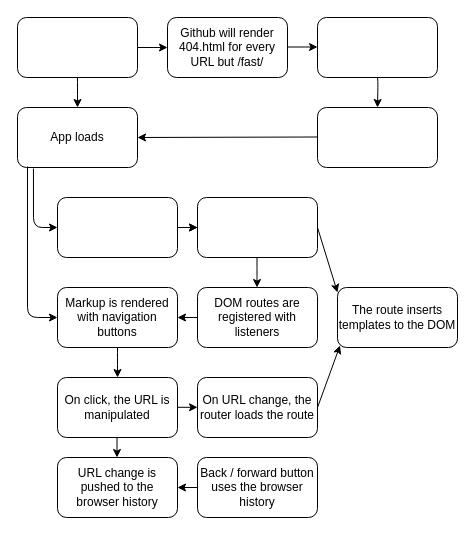
Image size: 475x535. Some labels were removed from this diagram. Each missing label, with the centre of its shape:
"GET abbeblubb.github.io /fast/" goes at point 77,47.
"Github allows the developer to write an own 404.html" goes at point 377,47.
"Initial route is rendered" goes at point 257,227.
"Router loads with routes" goes at point 117,227.
"The custimized 404 loads the index.html and keeps the URL" goes at point 377,137.
